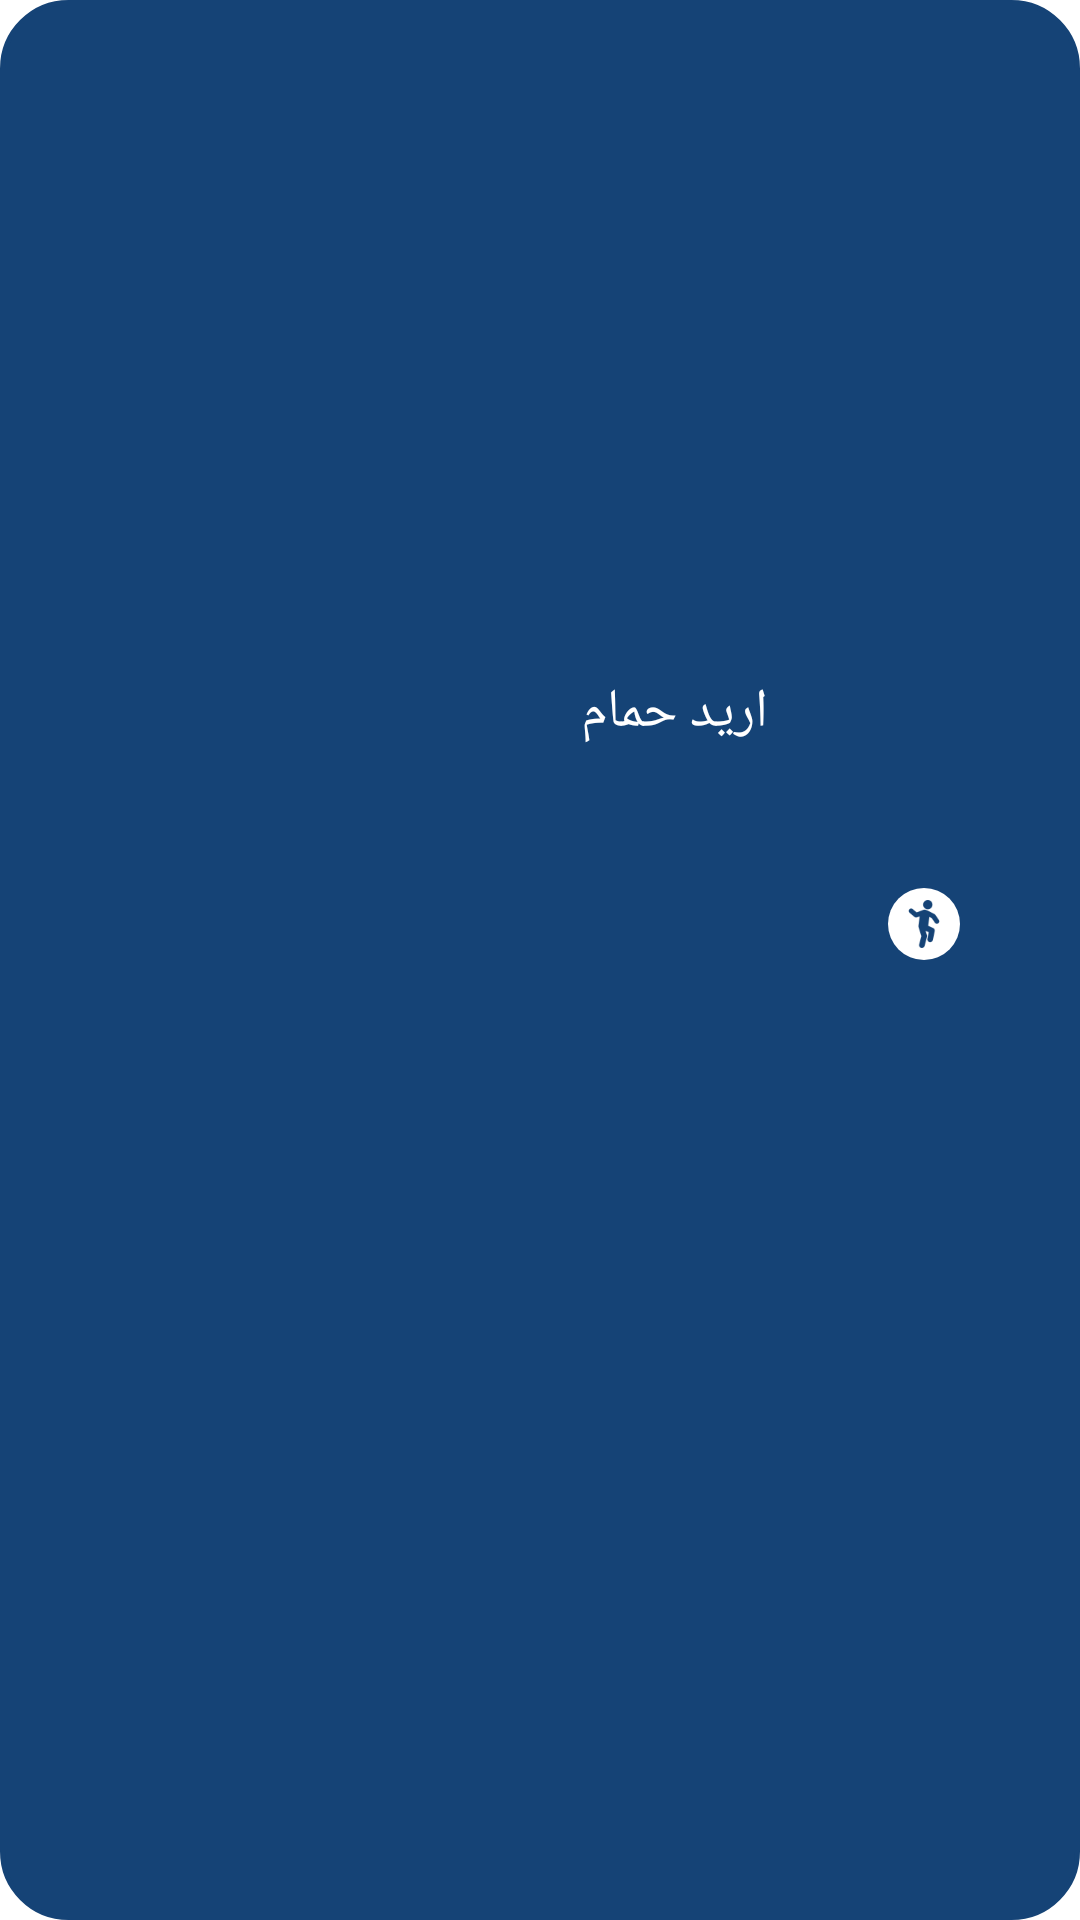

Icons on this 1080px x 1920px Android screen, each with its box as (x1, y1, x2, y2):
man: (888, 888, 960, 960)
